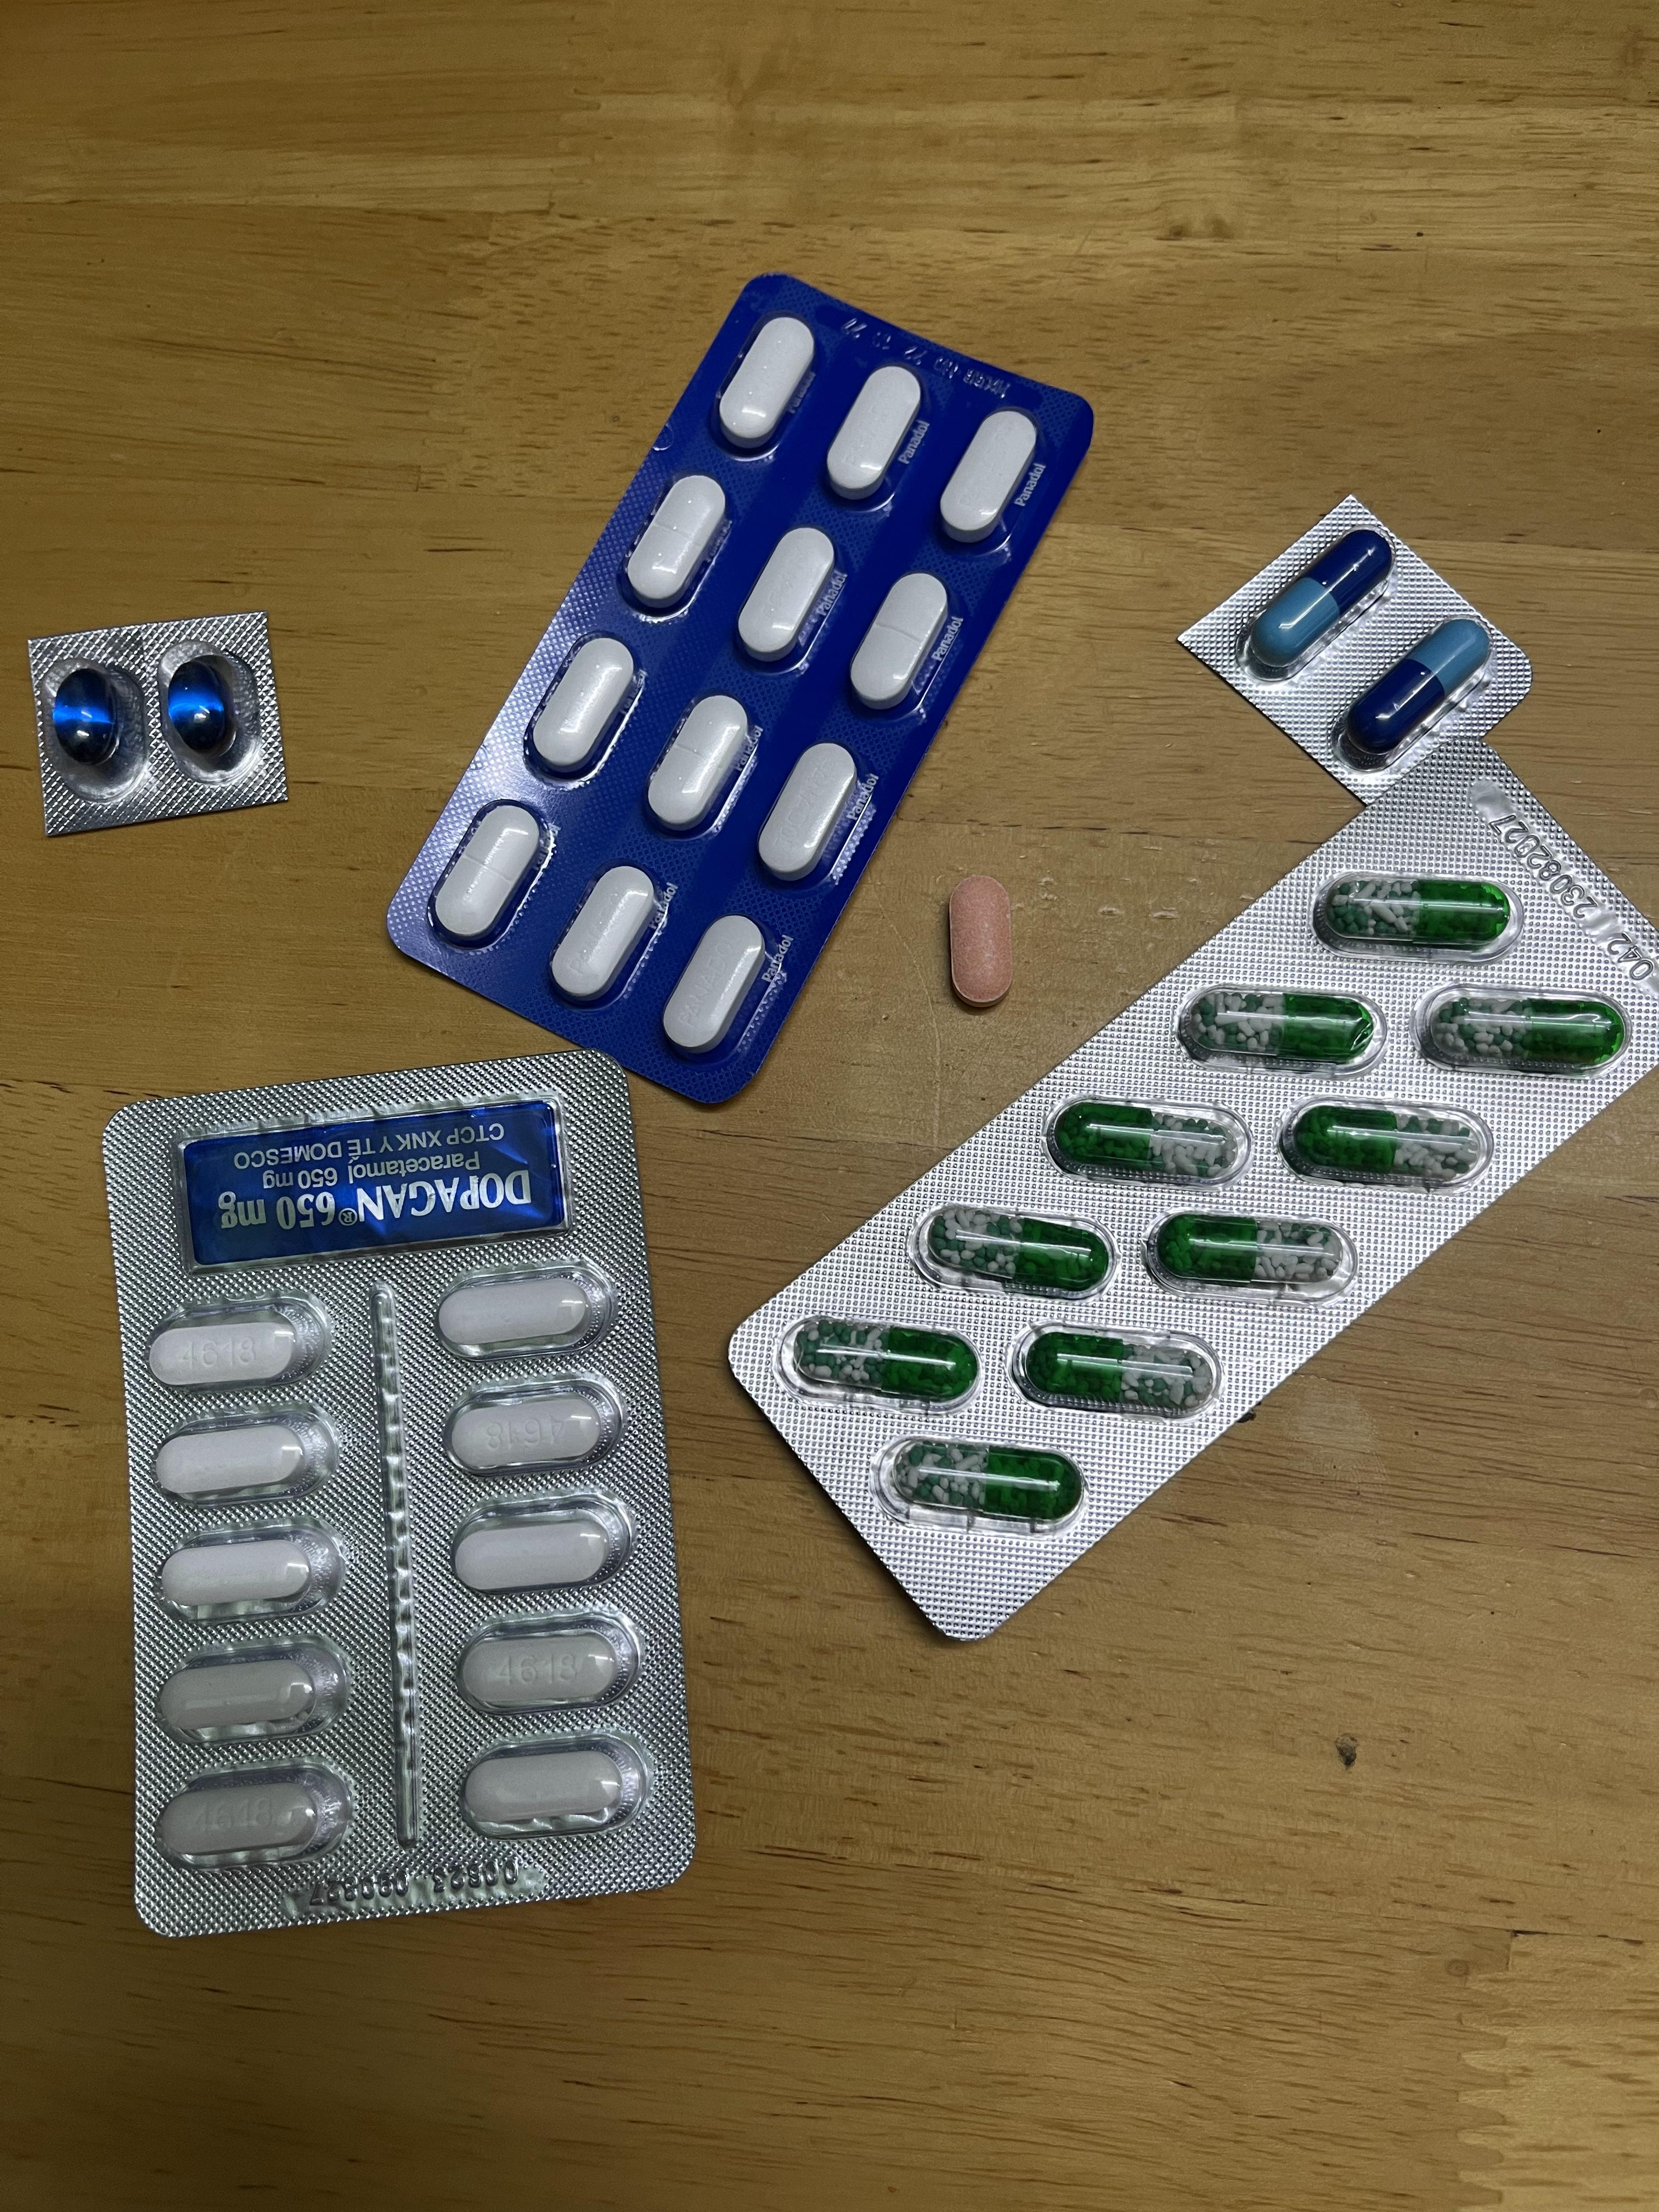Lincomyxin_500mg: (52, 671, 125, 768), (164, 662, 237, 758)
Loratadine_10mg: (946, 874, 1012, 1005)
Paracetamol_350mg: (432, 803, 544, 944), (645, 691, 755, 834), (756, 740, 864, 885), (662, 911, 770, 1055), (549, 864, 660, 1003), (622, 472, 730, 615), (530, 634, 638, 777), (735, 523, 840, 665), (849, 570, 953, 712), (938, 408, 1040, 545), (824, 362, 925, 502), (716, 315, 817, 453)
Paracetamol_500mg: (153, 1642, 345, 1740), (155, 1527, 347, 1620), (155, 1771, 343, 1864), (150, 1418, 335, 1501), (146, 1305, 328, 1388), (450, 1507, 624, 1592), (432, 1268, 603, 1355), (455, 1623, 629, 1709), (443, 1386, 613, 1472), (462, 1749, 631, 1829)
Paracetamol_650mg: (1422, 993, 1626, 1069), (1288, 1104, 1481, 1181), (791, 1318, 976, 1399), (1321, 876, 1513, 948), (929, 1211, 1103, 1289), (894, 1442, 1075, 1517), (1058, 1103, 1236, 1177), (1188, 991, 1377, 1061), (1026, 1334, 1202, 1406), (1159, 1217, 1344, 1285)
pill: (1333, 617, 1495, 773), (1251, 528, 1392, 669)
